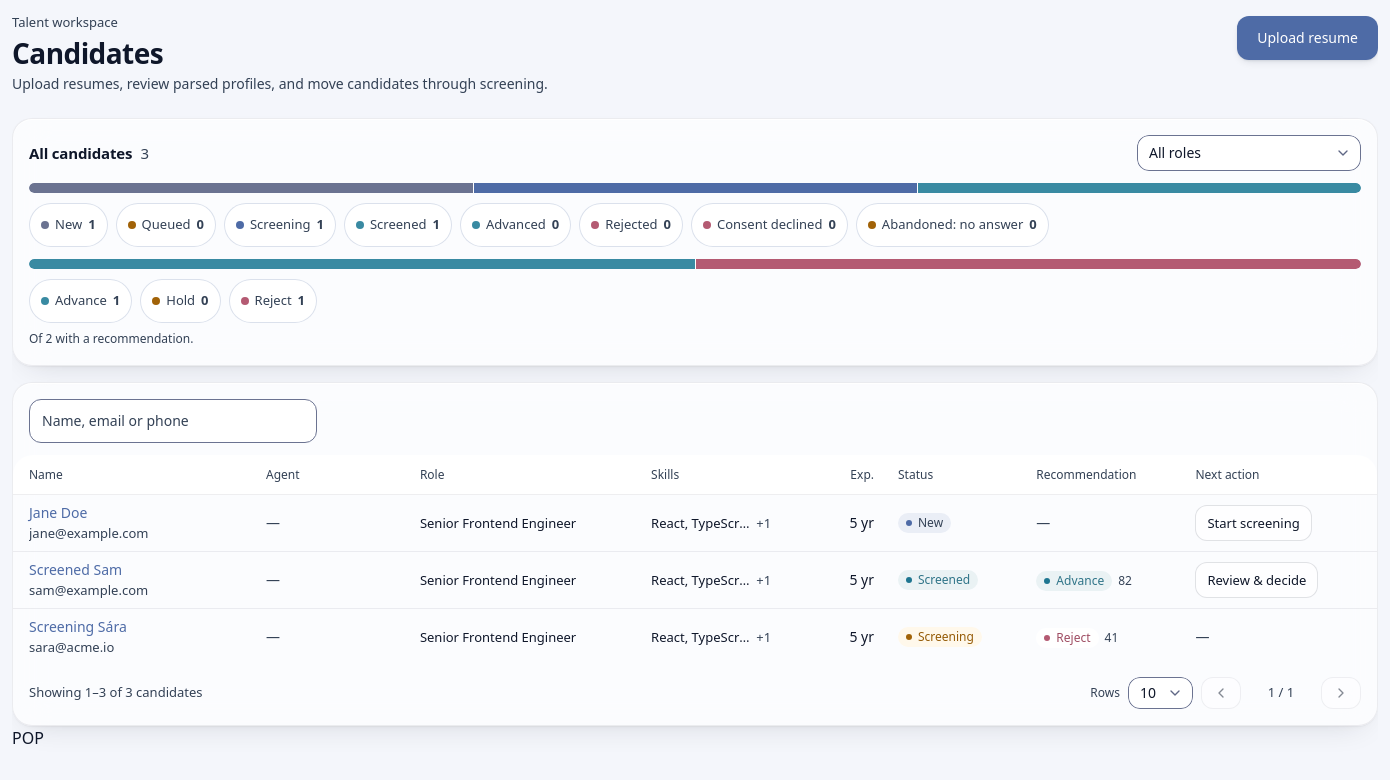
CandidatesPage search › matches email and is case/accent-insensitive
This screenshot has width=1390, height=780.
Expected: the link "Jane Doe" is shown, [29, 503, 88, 522]
In the search field named "Search candidates": (173, 421) [29, 399, 317, 443], type "ACME.io"
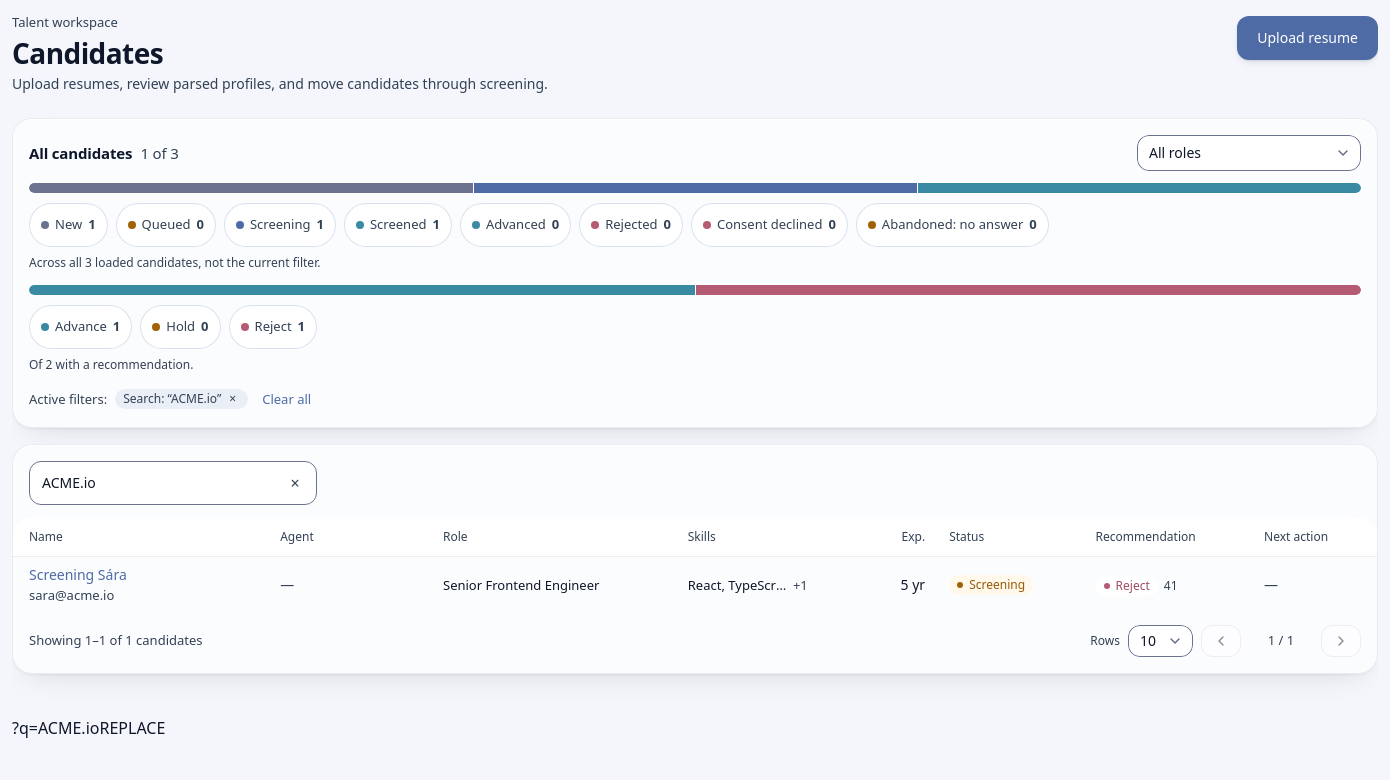
Replace the text in the search field named "Search candidates" with "sara": (173, 483) [29, 461, 317, 505]
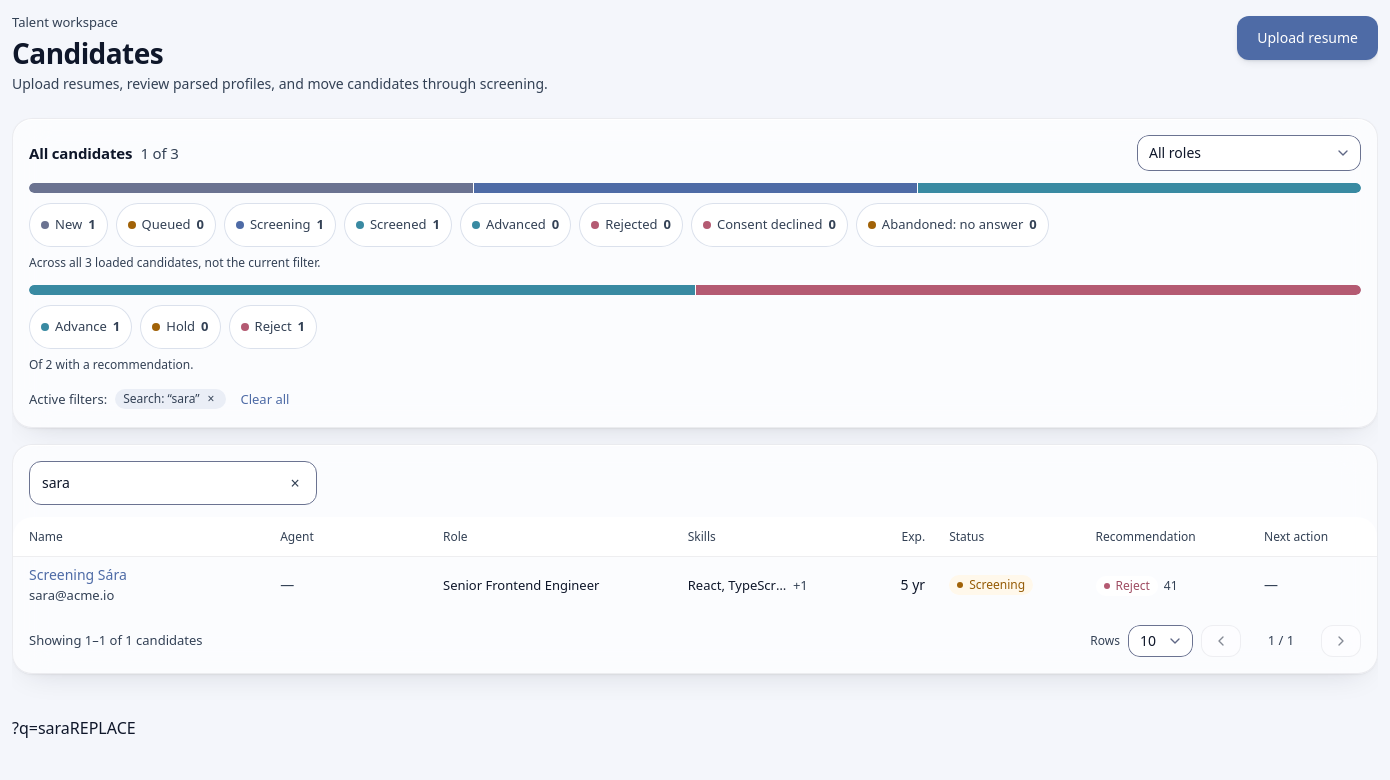
Expected: the text with test id "location" reads "?q=sara", [12, 717, 70, 739]
